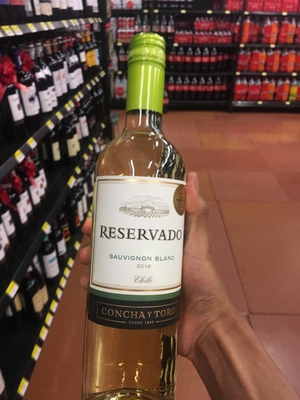reservado sauvignon blanc: (73, 30, 188, 379)
